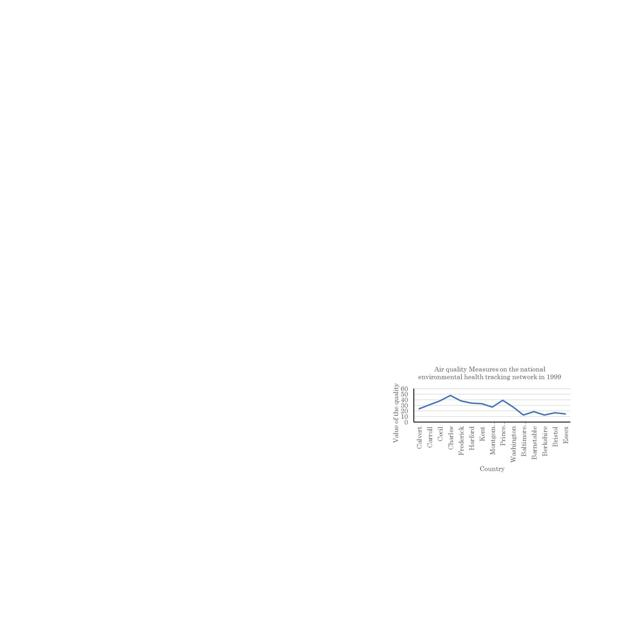Graph: (388, 363, 575, 474)
